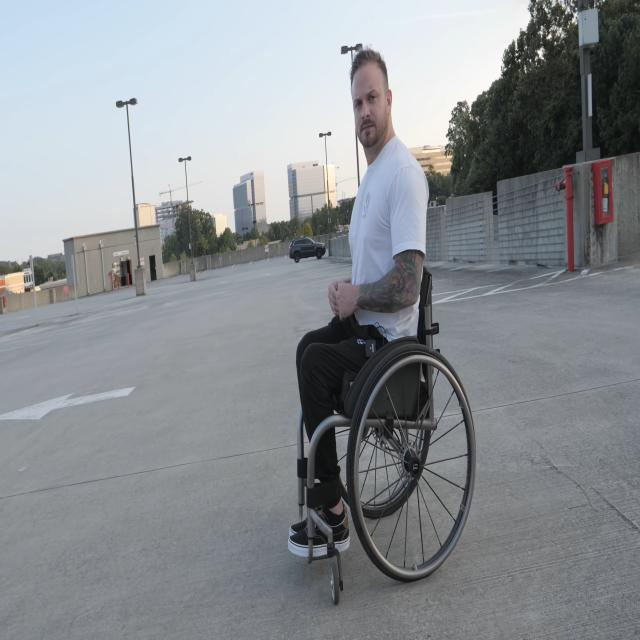wheelchairs: (297, 255, 478, 603)
